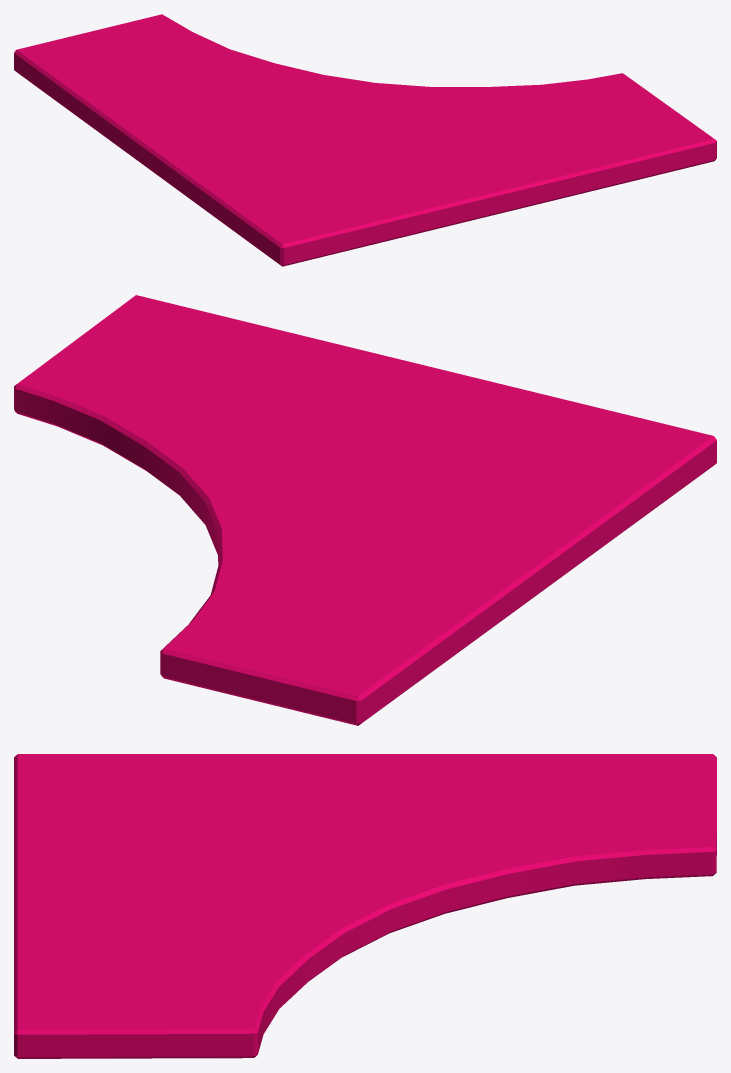
Rendered from Board_Turn_90_03A.fbx.
3 renders of one model, top to bottom at view 1: azimuth 30°, elevation 25°; view 2: azimuth 150°, elevation 25°; view 3: azimuth 270°, elevation 25°, orthographic. The views are drawn at different scales.
Parts seen in each view (by area): view 1: Board_Turn_90_03A; view 2: Board_Turn_90_03A; view 3: Board_Turn_90_03A.
Boxes of the visible parts, bbox=[...] form: Board_Turn_90_03A: bbox=[14, 14, 716, 266]; Board_Turn_90_03A: bbox=[14, 295, 716, 725]; Board_Turn_90_03A: bbox=[14, 754, 716, 1058].
Size of the model in its own units: 5.74 by 0.281 by 6.12.
